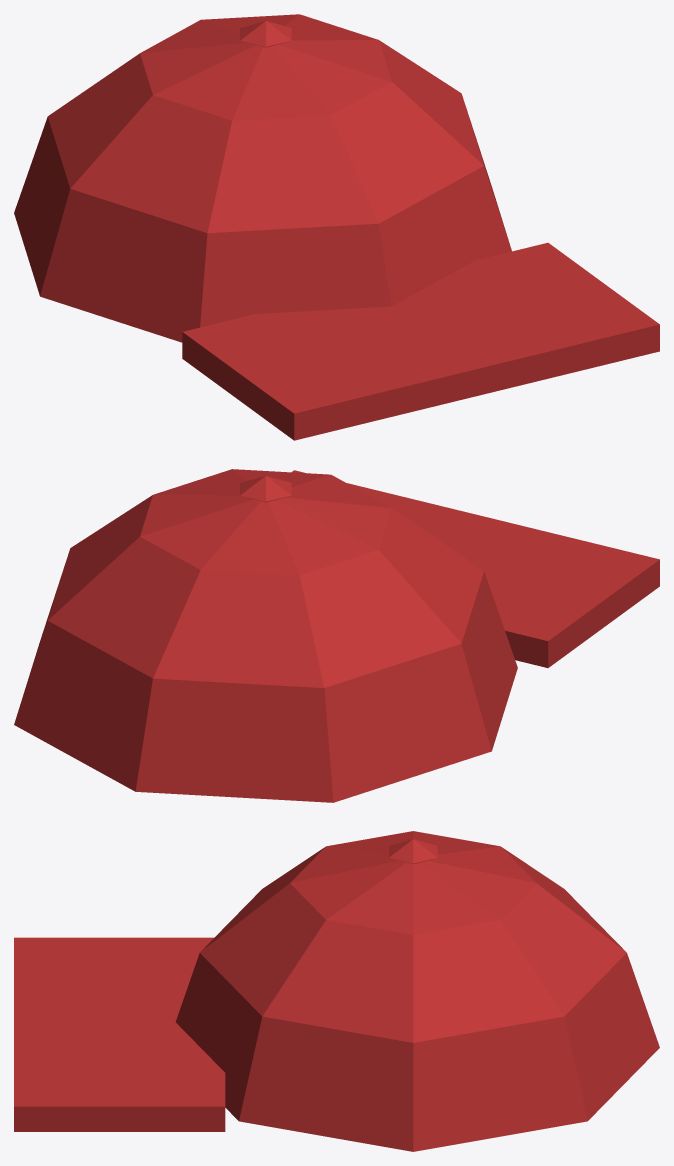
The model's file is cap.glb.
3 views of the same model, one above another, from view 1: azimuth 30°, elevation 25°; view 2: azimuth 150°, elevation 25°; view 3: azimuth 270°, elevation 25° (orthographic). The views are drawn at different scales.
Visible parts, largest first — view 1: Cap; view 2: Cap; view 3: Cap.
Boxes of the visible parts, x1,y1,x2,y2 form: Cap: (14, 14, 659, 440); Cap: (14, 469, 659, 802); Cap: (14, 831, 659, 1151).
Bounding box in the file's own units: 0.21 × 0.098 × 0.275.
